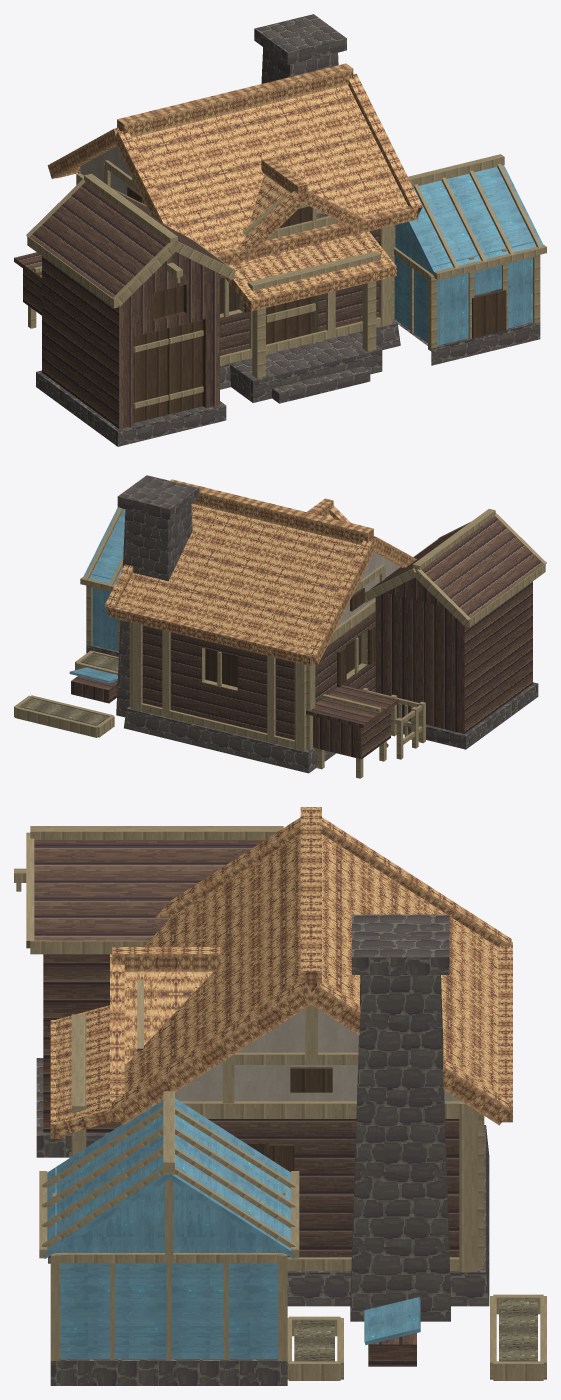
The model's file is farmhouse_stage4.glb.
3 renders of one model, top to bottom at view 1: azimuth 30°, elevation 25°; view 2: azimuth 150°, elevation 25°; view 3: azimuth 270°, elevation 25°, orthographic. The views are drawn at different scales.
Visible parts, largest first — view 1: farmhouse_stage4; view 2: farmhouse_stage4; view 3: farmhouse_stage4.
Part boxes in pixels (bbox=[...]): farmhouse_stage4: bbox=[14, 14, 546, 446]; farmhouse_stage4: bbox=[14, 475, 546, 778]; farmhouse_stage4: bbox=[14, 807, 546, 1385].
Bounding box in the file's own units: 9.1 × 4.94 × 6.56.
10 materials, 10 textured.
